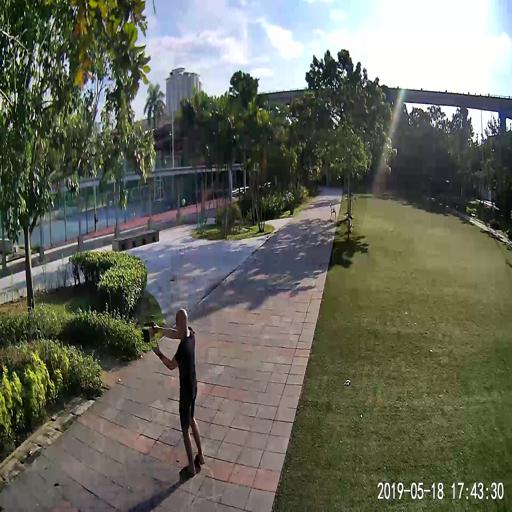pistol: (142, 318, 155, 329)
